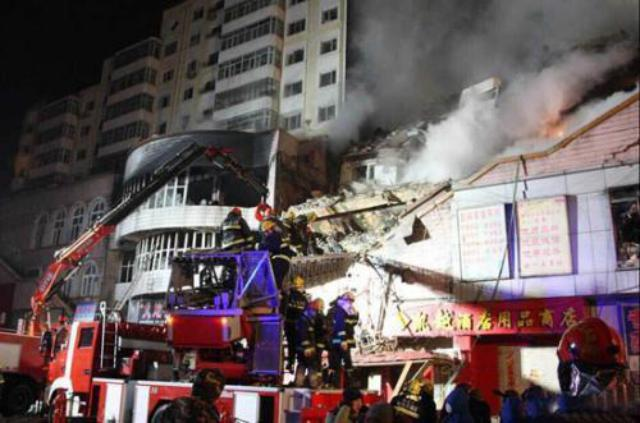smoke: (361, 10, 599, 66), (424, 118, 480, 175), (500, 81, 568, 125)
